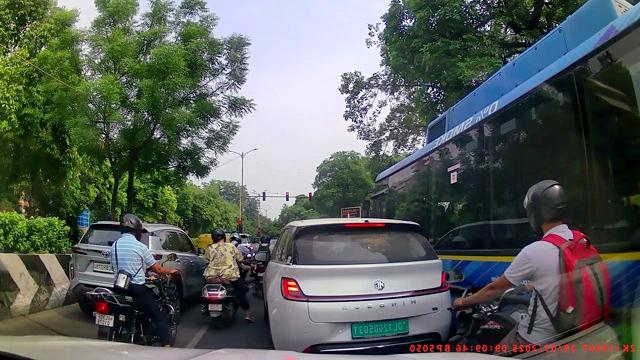motorcycle_with_helmet: (444, 177, 631, 351), (89, 212, 180, 345), (199, 226, 249, 328)
passenger_without_helmet: (199, 226, 249, 328)
